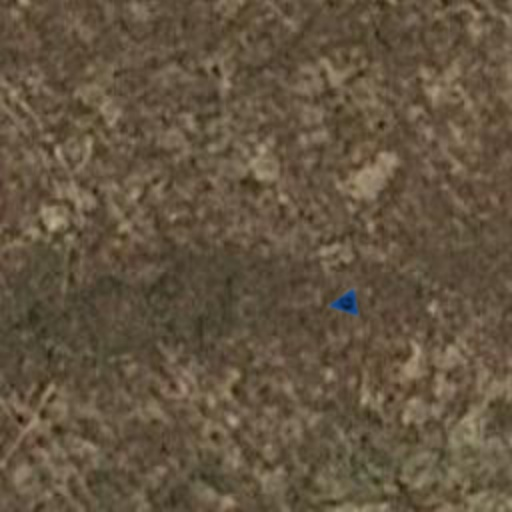triangle: (324, 286, 360, 322)
